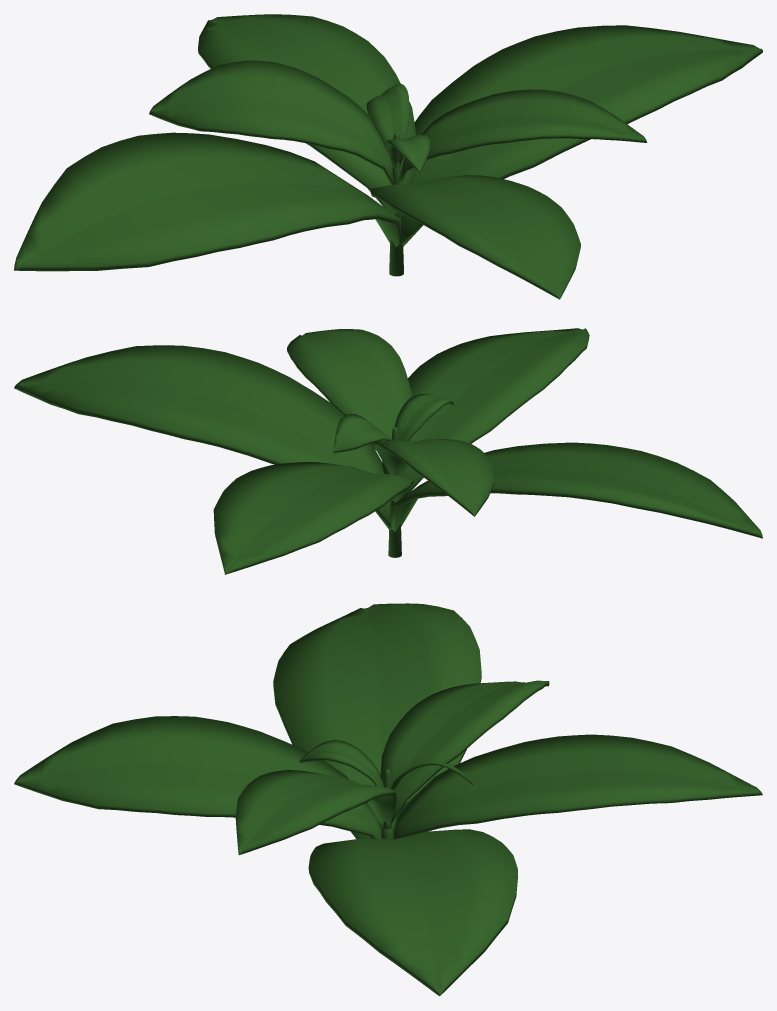
The model's file is small-basil.fbx.
3 renders of one model, top to bottom at view 1: azimuth 30°, elevation 25°; view 2: azimuth 150°, elevation 25°; view 3: azimuth 270°, elevation 25°, orthographic. The views are drawn at different scales.
Visible parts, largest first — view 1: small-basil; view 2: small-basil; view 3: small-basil.
Part boxes in pixels (x1,y1,x2,y2): small-basil: (14, 14, 762, 299); small-basil: (14, 328, 762, 574); small-basil: (14, 603, 762, 996).
Size of the model in its own units: 989 by 216 by 812.
